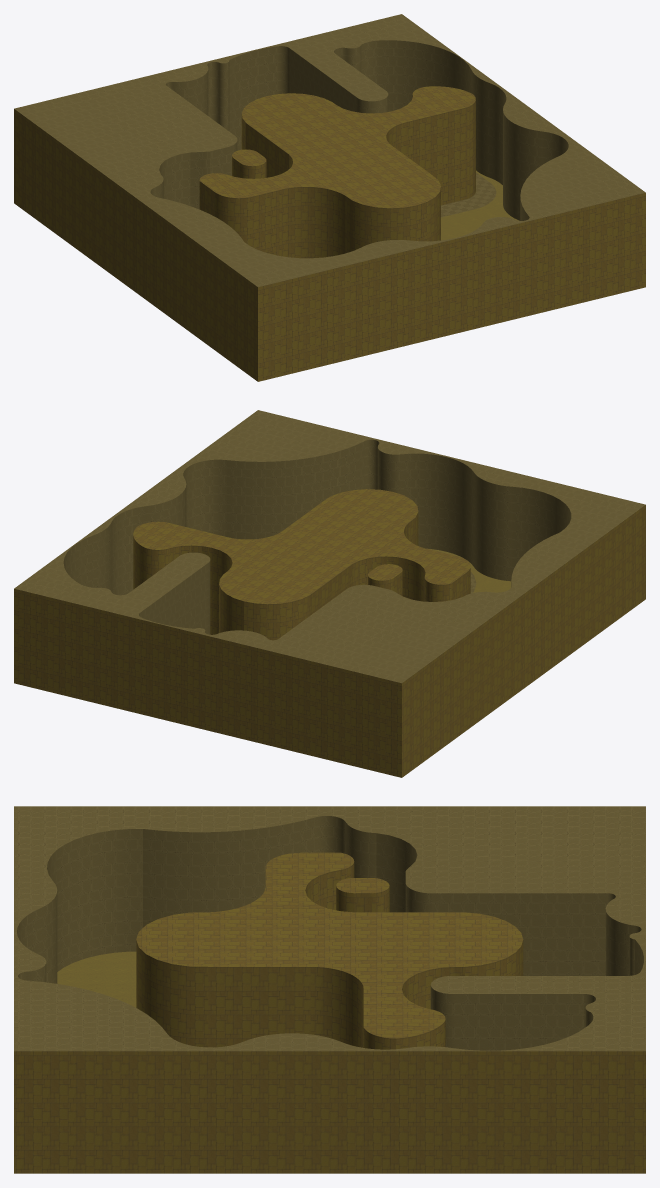
3 views of the same model, one above another, from view 1: azimuth 30°, elevation 25°; view 2: azimuth 150°, elevation 25°; view 3: azimuth 270°, elevation 25° (orthographic). The views are drawn at different scales.
Parts seen in each view (by area): view 1: Course-SKP--Wall.001, Course-SKP--Wall2.001, Course-SKP--MoOffRoad.001, Course-SKP--RoadNew.001; view 2: Course-SKP--Wall.001, Course-SKP--Wall2.001, Course-SKP--MoOffRoad.001; view 3: Course-SKP--Wall.001, Course-SKP--Wall2.001, Course-SKP--MoOffRoad.001.
Part boxes in pixels (x1=…): Course-SKP--Wall.001: x1=14, y1=86, x2=645, y2=381; Course-SKP--Wall2.001: x1=14, y1=14, x2=645, y2=287; Course-SKP--MoOffRoad.001: x1=441, y1=170, x2=519, y2=240; Course-SKP--RoadNew.001: x1=441, y1=172, x2=496, y2=217; Course-SKP--Wall.001: x1=14, y1=489, x2=645, y2=777; Course-SKP--Wall2.001: x1=14, y1=410, x2=645, y2=683; Course-SKP--MoOffRoad.001: x1=427, y1=548, x2=511, y2=592; Course-SKP--Wall.001: x1=14, y1=852, x2=645, y2=1173; Course-SKP--Wall2.001: x1=14, y1=806, x2=645, y2=1051; Course-SKP--MoOffRoad.001: x1=57, y1=951, x2=136, y2=1007.
Size of the model in its own units: 66571 by 15541 by 72545.
8 materials, 8 textured.
